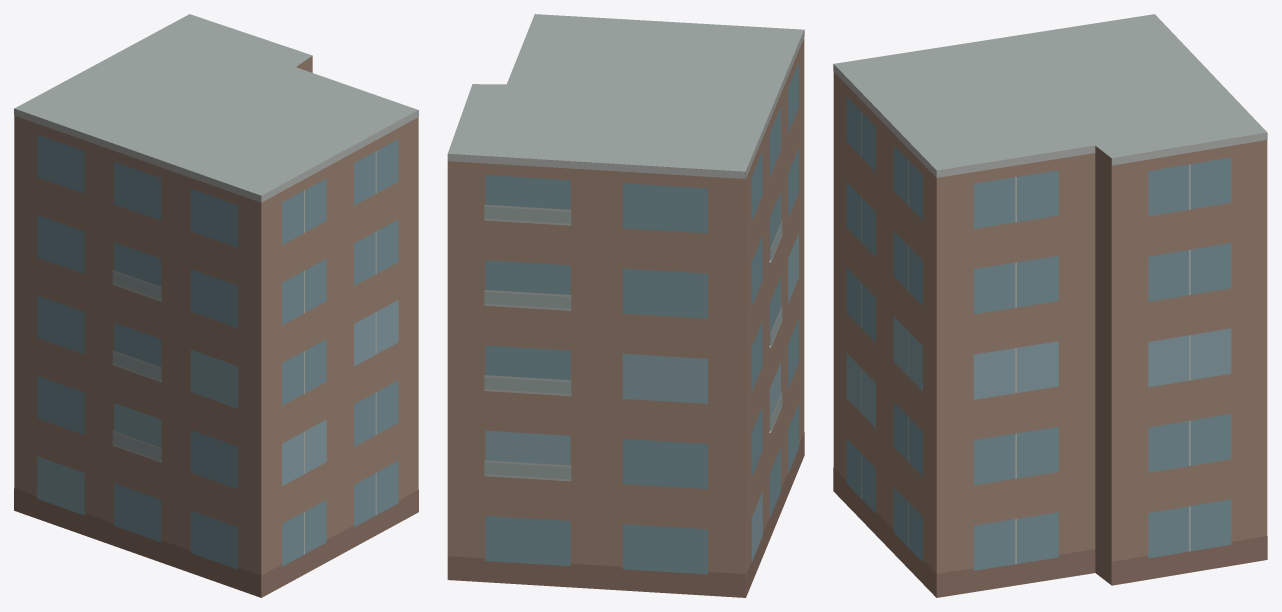
File: survey-upis-32853855.glb
The picture shows the model from 3 angles, left to right: view 1: azimuth 30°, elevation 25°; view 2: azimuth 150°, elevation 25°; view 3: azimuth 270°, elevation 25°; orthographic projection. The views are drawn at different scales.
Visible parts, largest first — view 1: survey-upis-32853855.tmp; view 2: survey-upis-32853855.tmp; view 3: survey-upis-32853855.tmp.
Part boxes in pixels (bbox=[...]): survey-upis-32853855.tmp: bbox=[14, 14, 418, 597]; survey-upis-32853855.tmp: bbox=[447, 14, 804, 597]; survey-upis-32853855.tmp: bbox=[833, 14, 1267, 597].
Size of the model in its own units: 11.09 by 14.1 by 12.99.
